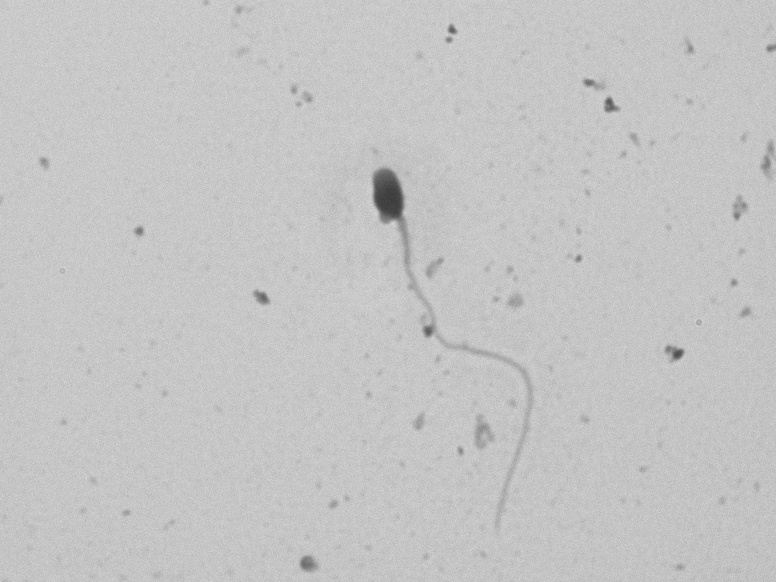Abnormal: (348, 146, 553, 545)
